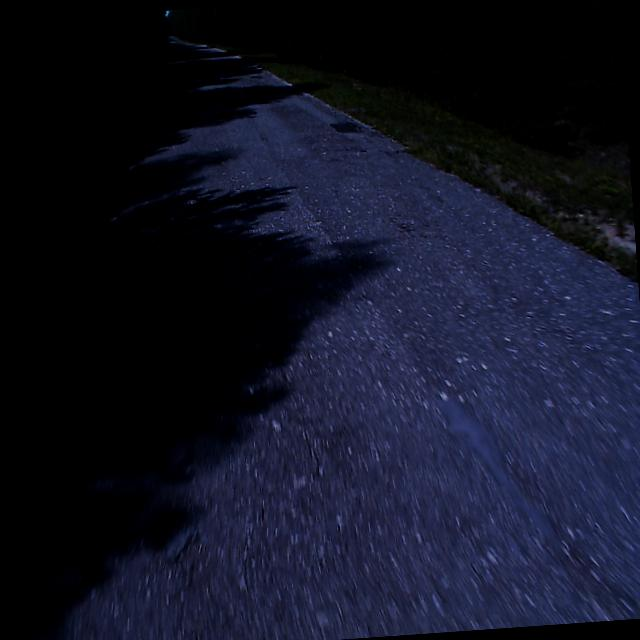road: (14, 35, 640, 640)
